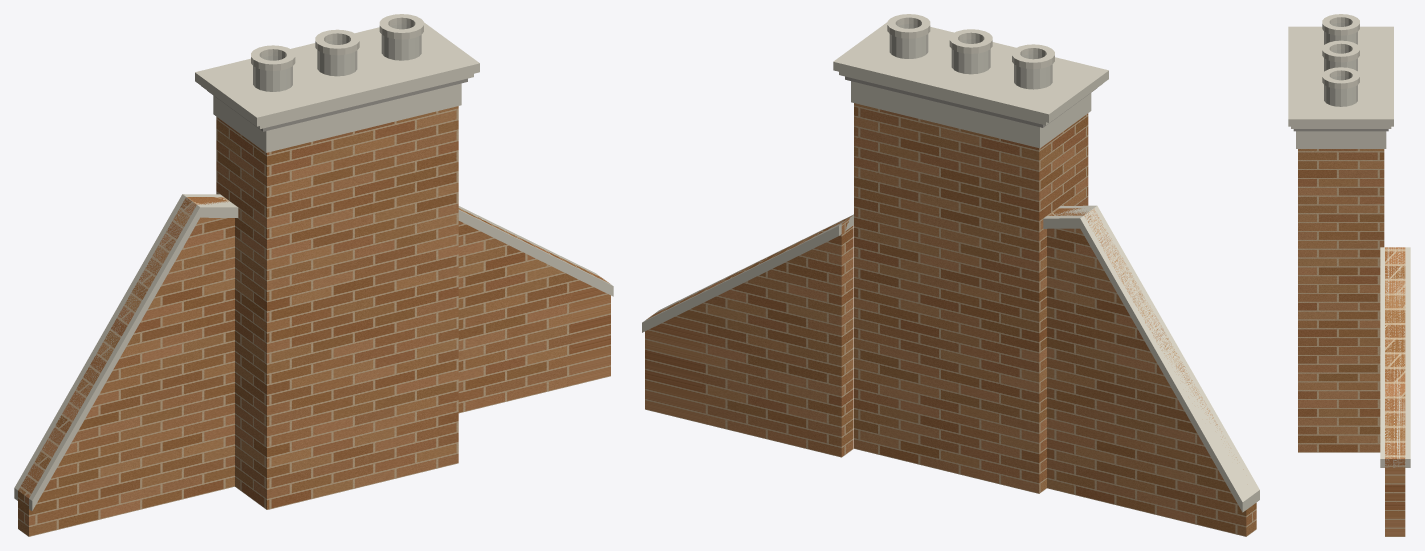
Rendered from tang-house-no20-three-chimney-pots-far.glb.
The picture shows the model from 3 angles, left to right: view 1: azimuth 30°, elevation 25°; view 2: azimuth 150°, elevation 25°; view 3: azimuth 270°, elevation 25°; orthographic projection. The views are drawn at different scales.
Visible parts, largest first — view 1: 唐氏花园住宅20号山墙三孔砖烟囱; view 2: 唐氏花园住宅20号山墙三孔砖烟囱; view 3: 唐氏花园住宅20号山墙三孔砖烟囱.
Part boxes in pixels (<box>): 唐氏花园住宅20号山墙三孔砖烟囱: <box>14,14,613,536</box>; 唐氏花园住宅20号山墙三孔砖烟囱: <box>642,14,1259,536</box>; 唐氏花园住宅20号山墙三孔砖烟囱: <box>1288,14,1410,536</box>.
Size of the model in its own units: 4.58 by 3.12 by 0.95.
5 materials, 1 textured.
